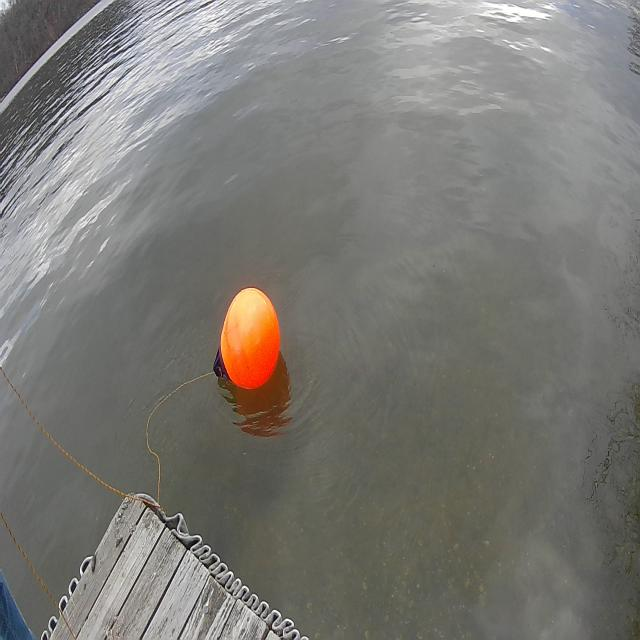Buoy: (207, 280, 287, 405)
